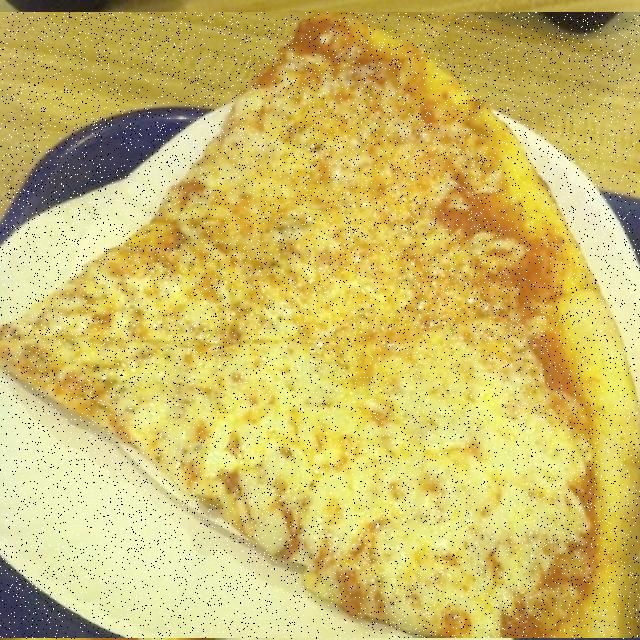Pizza: (0, 13, 640, 639)
